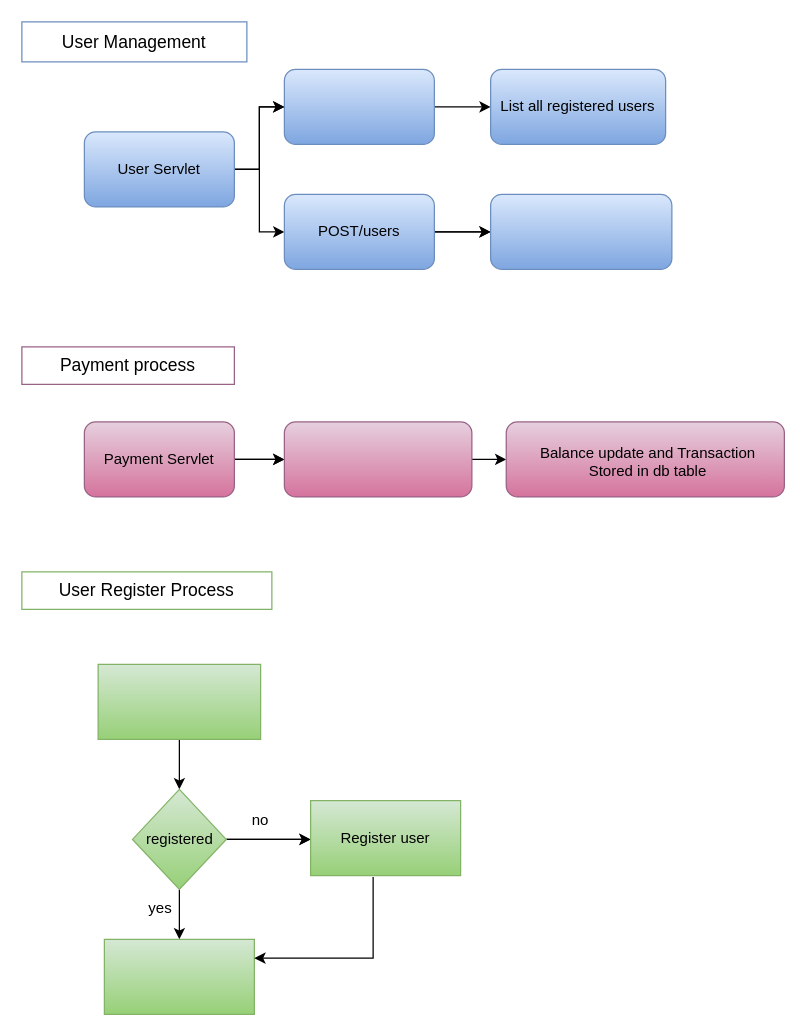
The diagram is 806 pixels wide and 1036 high, and some of its shapes have lost their labels. The box of each missing label's shape, as (x1, y1, x2, y2) in pixels:
GET/users: (283, 68, 434, 144)
make payment: (103, 938, 254, 1014)
POST/payement/process: (283, 421, 472, 497)
Stores user in dab table: (489, 193, 672, 269)
User: (97, 663, 261, 739)
